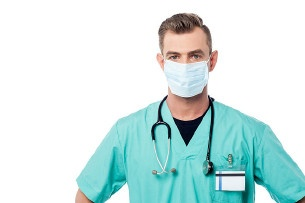Mask: (160, 46, 211, 97)
